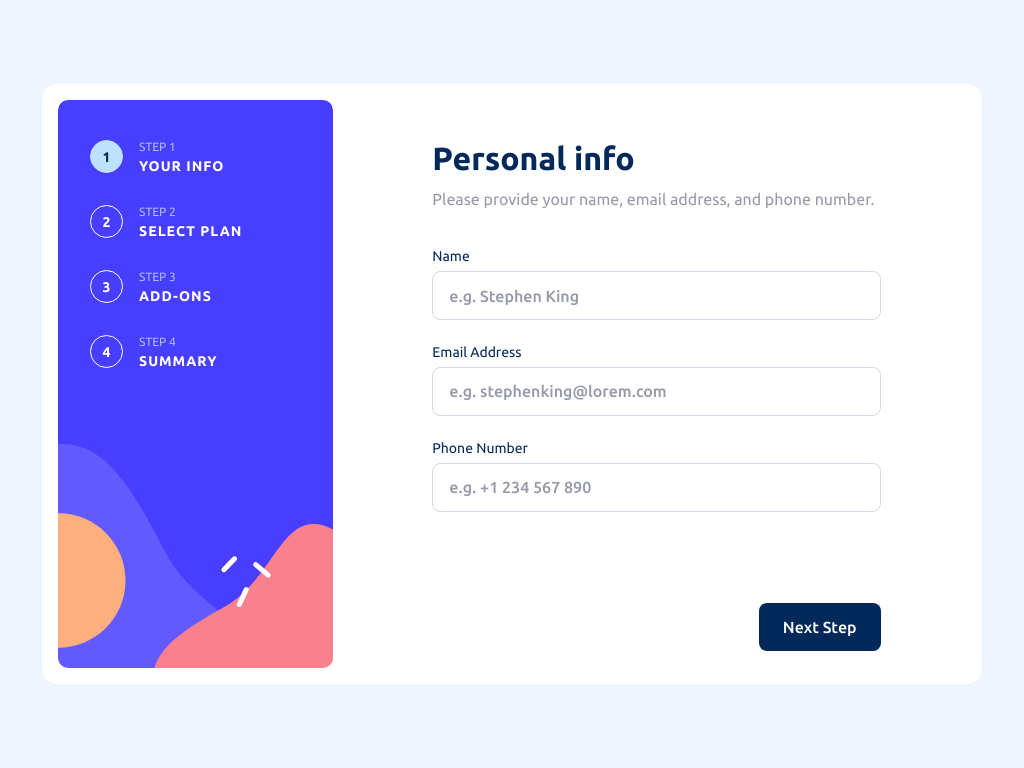
Test: Personal info form section › email input should be valid
Type "testemail.com" into the field labelled "Email address" at point(656, 392), box [432,367,880,416]
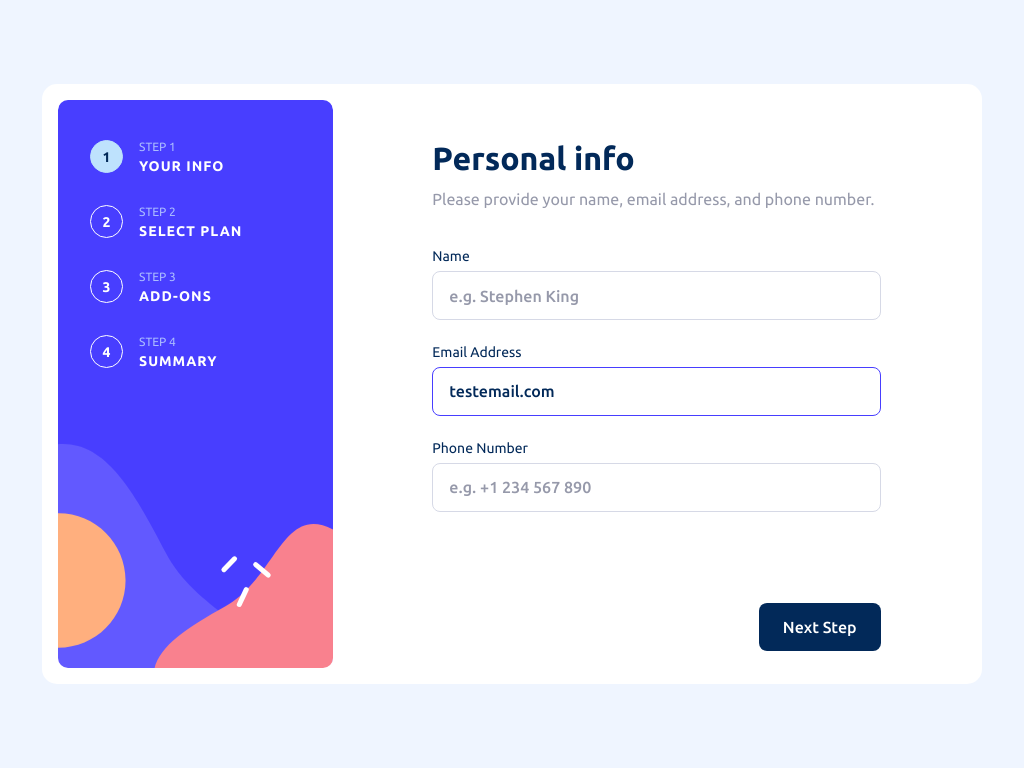
Click the button with test id "nextButton" at point(820, 627), box [759,603,881,651]
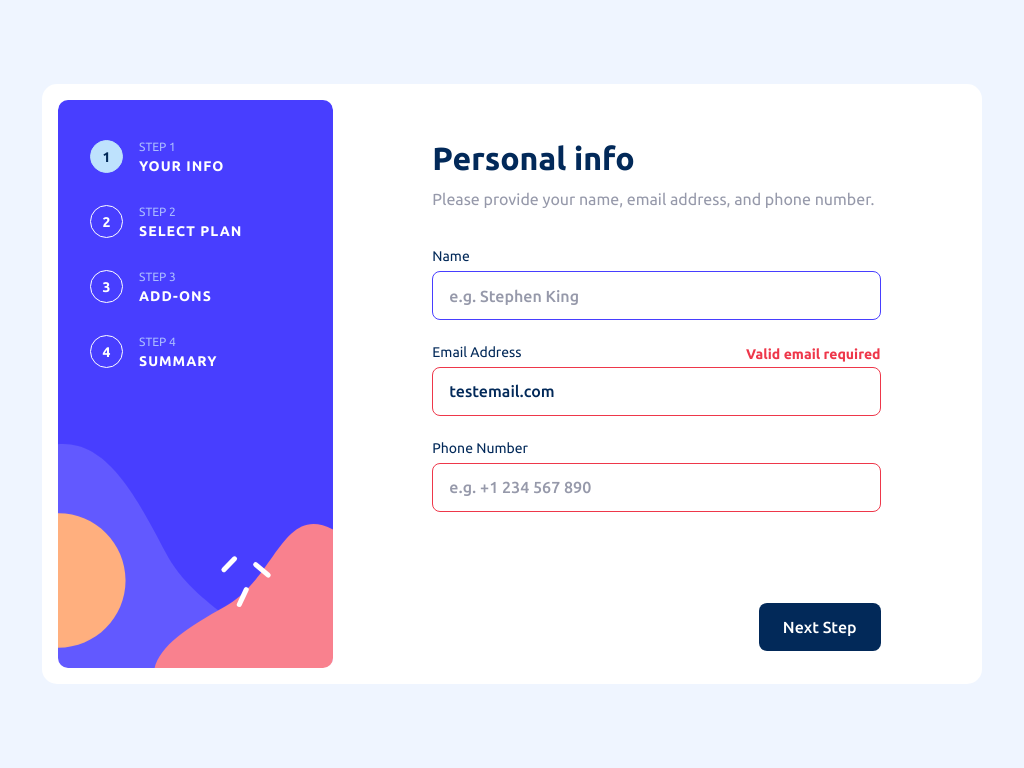
Result: the text "Valid email required" is shown at [746,344,881,365]
